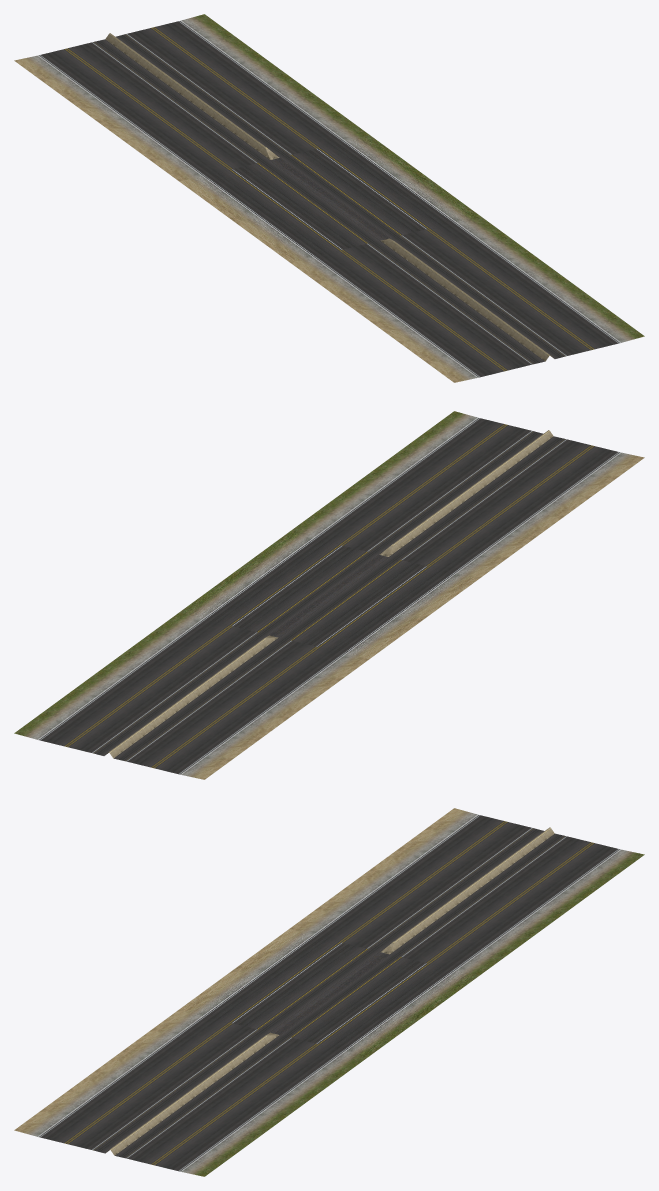
The model's file is vegassedge15.obj.
3 renders of one model, top to bottom at view 1: azimuth 30°, elevation 25°; view 2: azimuth 150°, elevation 25°; view 3: azimuth 330°, elevation 25°, orthographic.
Parts seen in each view (by area): view 1: vegasSedge15; view 2: vegasSedge15; view 3: vegasSedge15.
Part boxes in pixels (x1,y1,x2,y2): vegasSedge15: (14, 14, 644, 382); vegasSedge15: (14, 411, 644, 779); vegasSedge15: (14, 808, 644, 1176).
Bounding box in the file's own units: 40 × 0.9823 × 160.
Materials: 5 (5 with a texture image).
